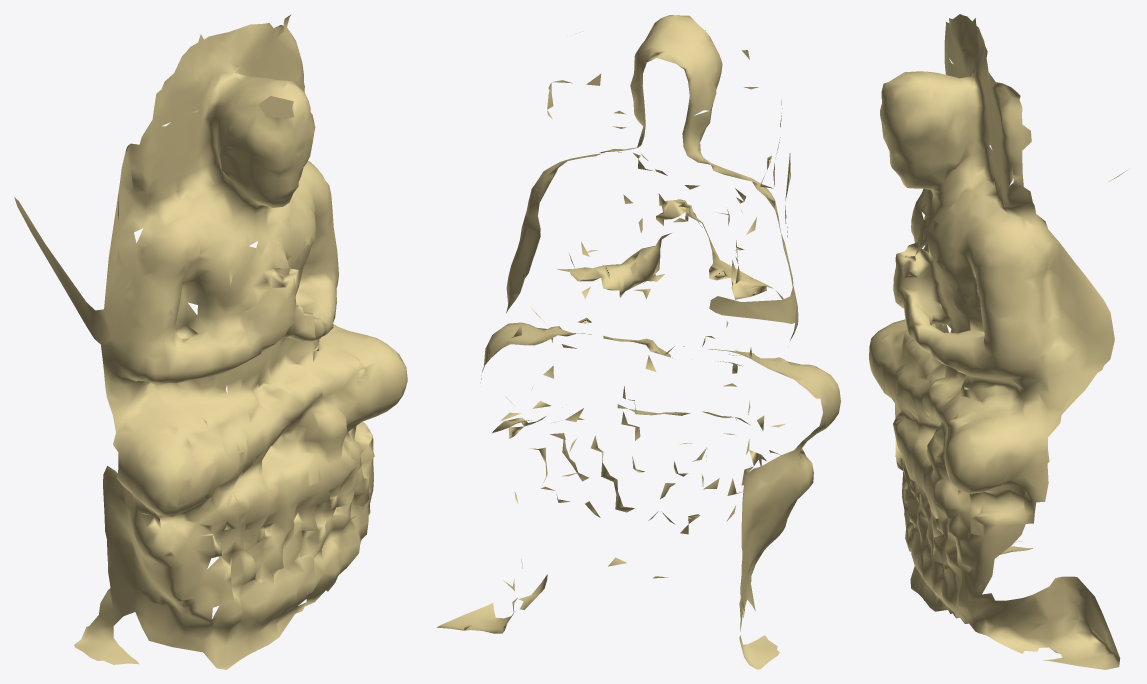
The model's file is niche-buddha-a.glb.
3 renders of one model, left to right at view 1: azimuth 30°, elevation 25°; view 2: azimuth 150°, elevation 25°; view 3: azimuth 270°, elevation 25°, orthographic. The views are drawn at different scales.
Size of the model in its own units: 25.75 by 48.64 by 20.2.
